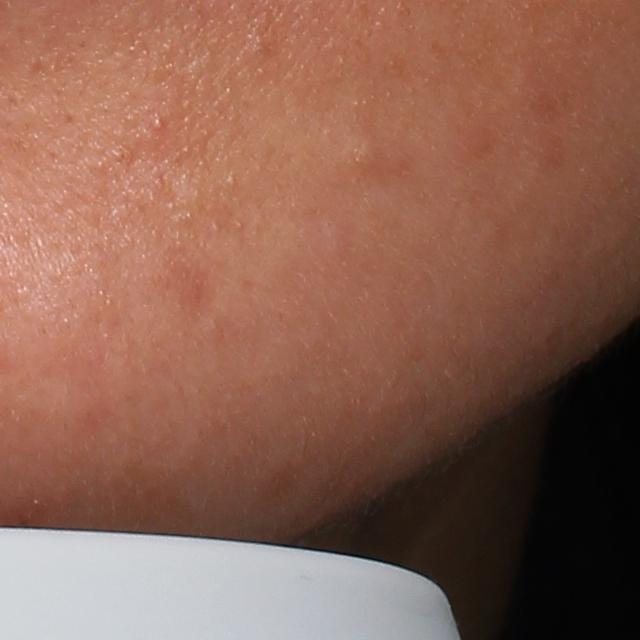comedo: (333, 131, 377, 172), (150, 114, 162, 131)
